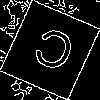C: (25, 25, 79, 82)
